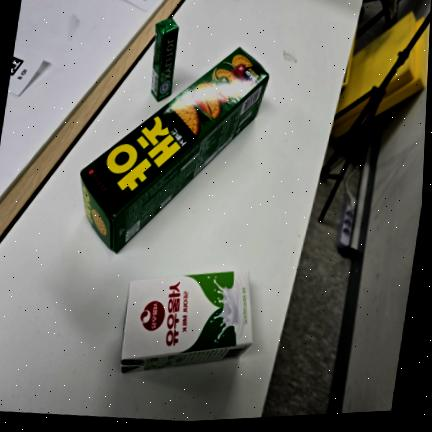cracker_vege: (81, 48, 269, 252)
gum_green: (152, 18, 179, 101)
milk_green: (121, 271, 253, 373)
